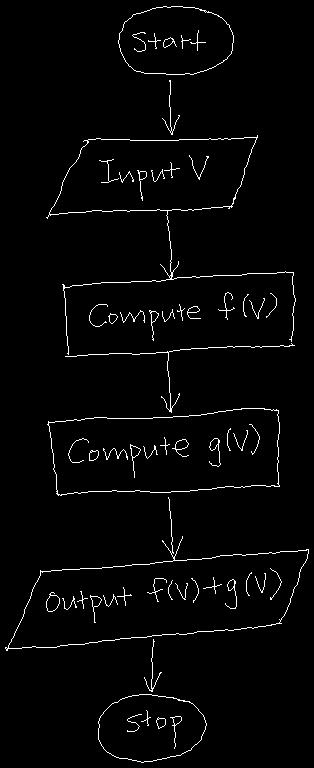arrow: (162, 497, 182, 559), (160, 211, 178, 278), (161, 351, 179, 412), (162, 80, 179, 134), (144, 639, 161, 691)
data: (5, 549, 308, 650), (46, 135, 257, 218)
process: (47, 408, 279, 495), (62, 271, 295, 356)
terminator: (118, 6, 233, 74), (98, 694, 206, 762)
text: (46, 568, 281, 622), (68, 424, 259, 477), (89, 292, 276, 340), (99, 155, 208, 200), (127, 710, 181, 748), (132, 30, 205, 51)
